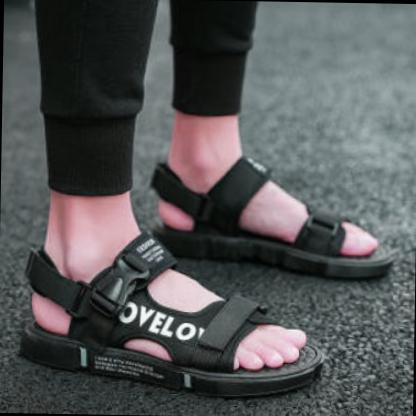no_safety-shoe: (16, 227, 332, 415), (128, 130, 394, 285)
